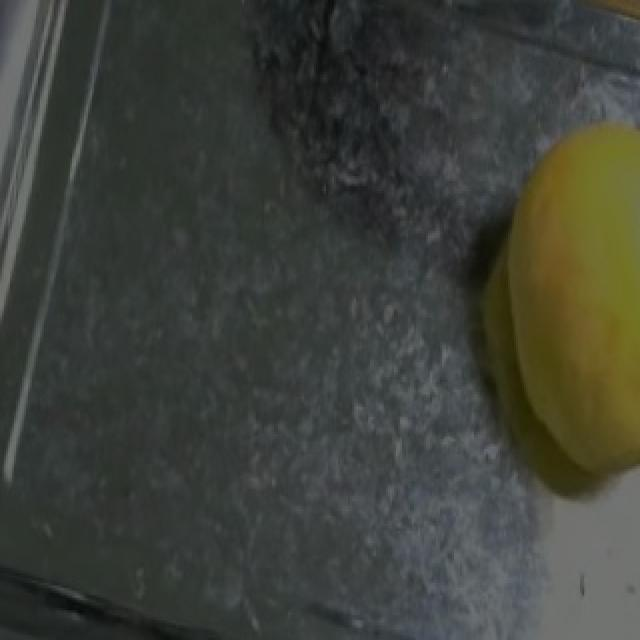fruit: (462, 84, 640, 484), (490, 0, 640, 64)
